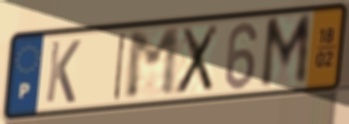6: (223, 19, 259, 92)
I: (111, 30, 129, 104)
K: (43, 38, 83, 106)
M: (258, 11, 315, 93), (125, 25, 182, 103)
X: (173, 22, 221, 98)
